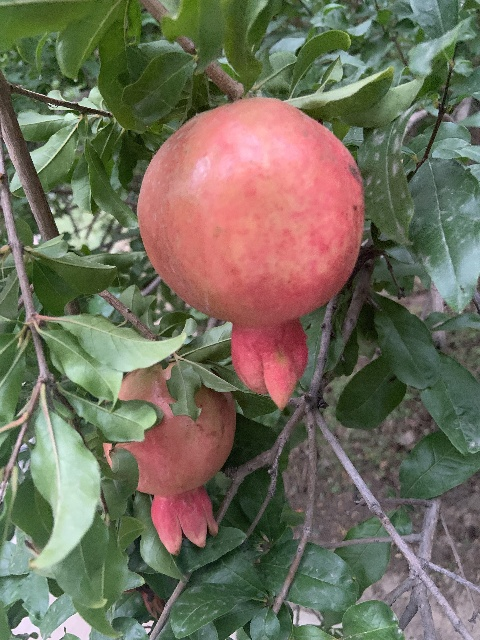ripe: (137, 97, 364, 410), (102, 362, 236, 556)
